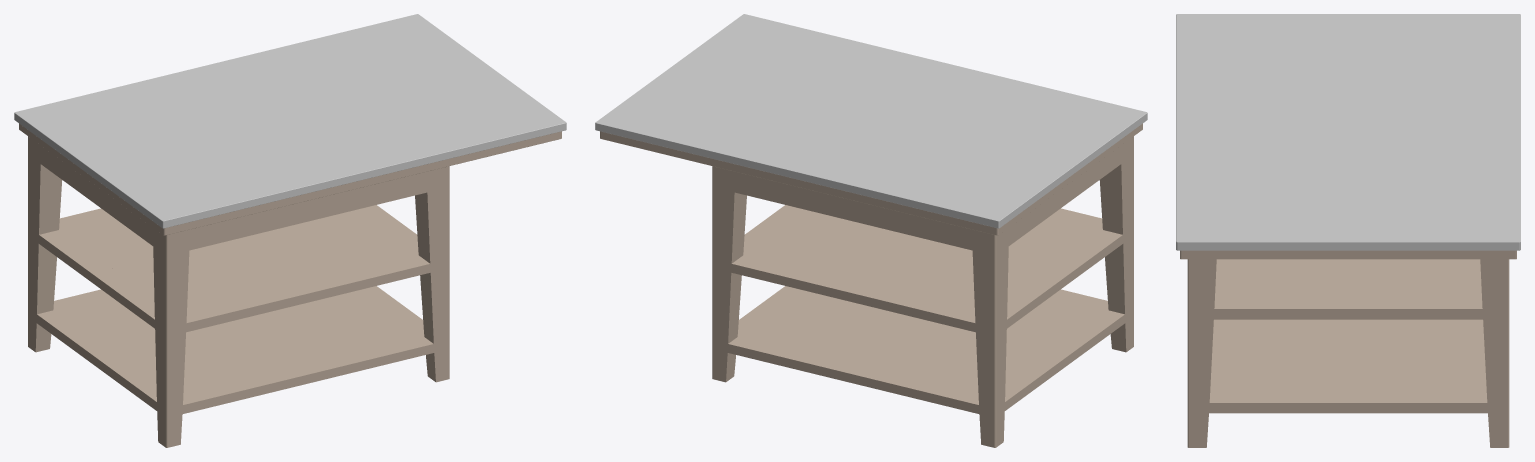
The model's file is island.dae.
The picture shows the model from 3 angles, left to right: view 1: azimuth 30°, elevation 25°; view 2: azimuth 150°, elevation 25°; view 3: azimuth 270°, elevation 25°; orthographic projection. The views are drawn at different scales.
Visible parts, largest first — view 1: Cube; view 2: Cube; view 3: Cube.
Part boxes in pixels (<box>): Cube: <box>14,14,566,447</box>; Cube: <box>595,14,1147,447</box>; Cube: <box>1176,14,1520,447</box>.
Size of the model in its own units: 3.58 by 2.29 by 1.97.
